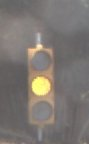Yellow: (23, 41, 65, 127)
